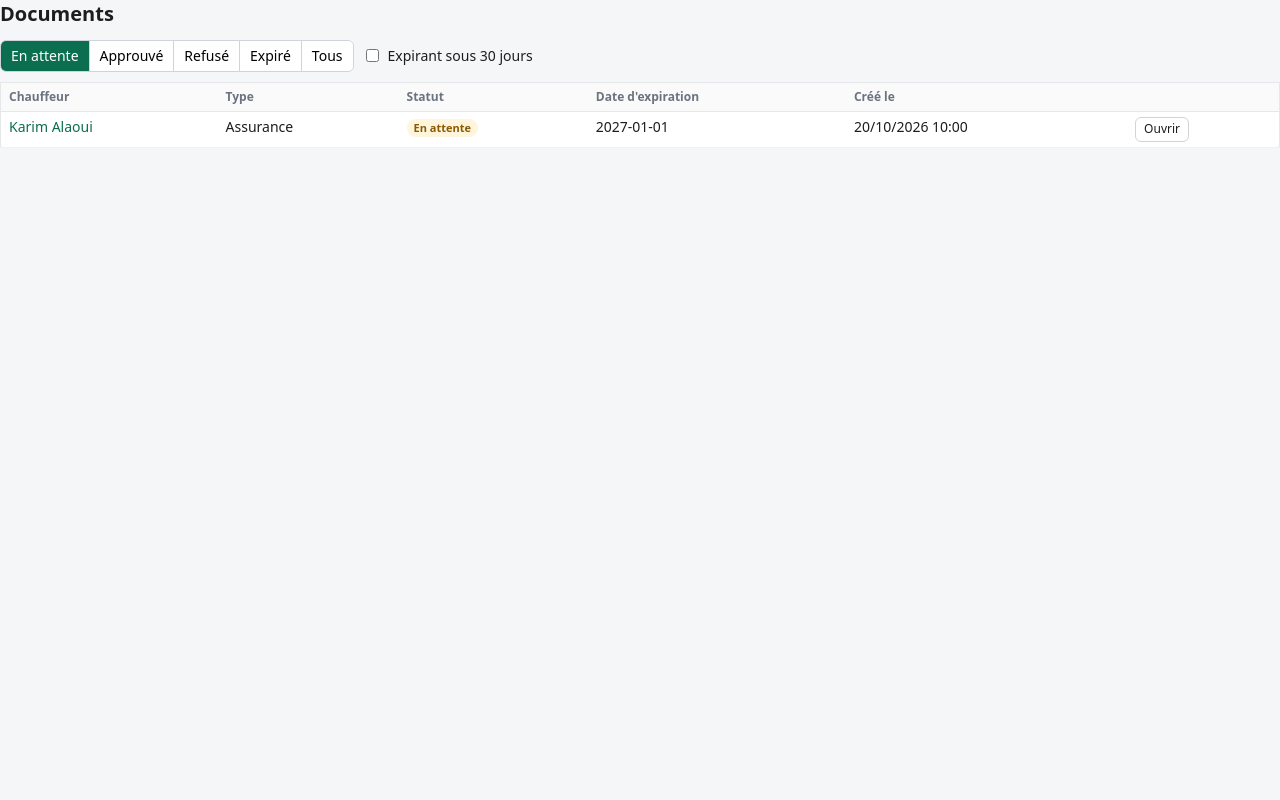
Scenario: Documents › approve with an expiry date → POST approve {expires_on}
This screenshot has width=1280, height=800.
Click the button "Ouvrir". click: (1162,130)
box: [1135, 117, 1189, 142]
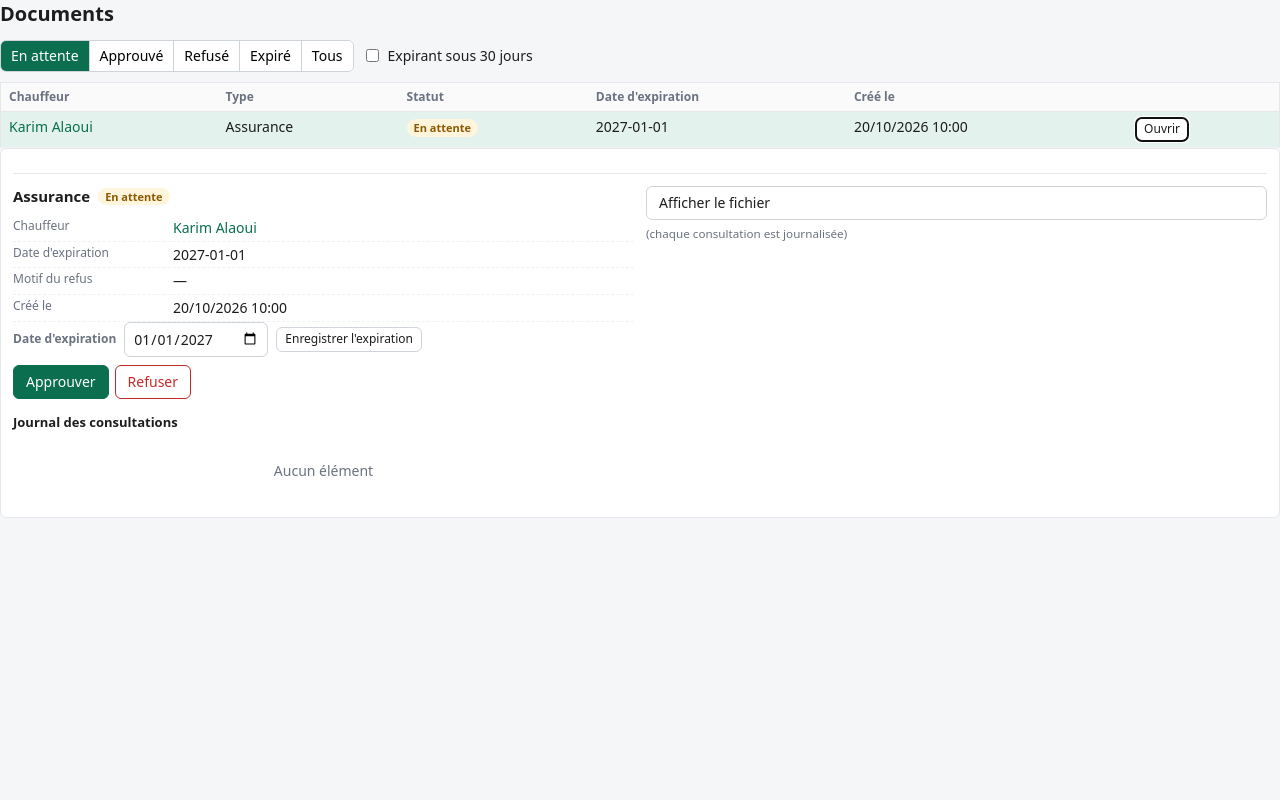
Check: the element with test id "doc-panel" is shown, box [13, 173, 1267, 504]
Type "2028-03-31" into the date field labelled "Date d'expiration". click: (196,339)
box: [124, 322, 268, 357]
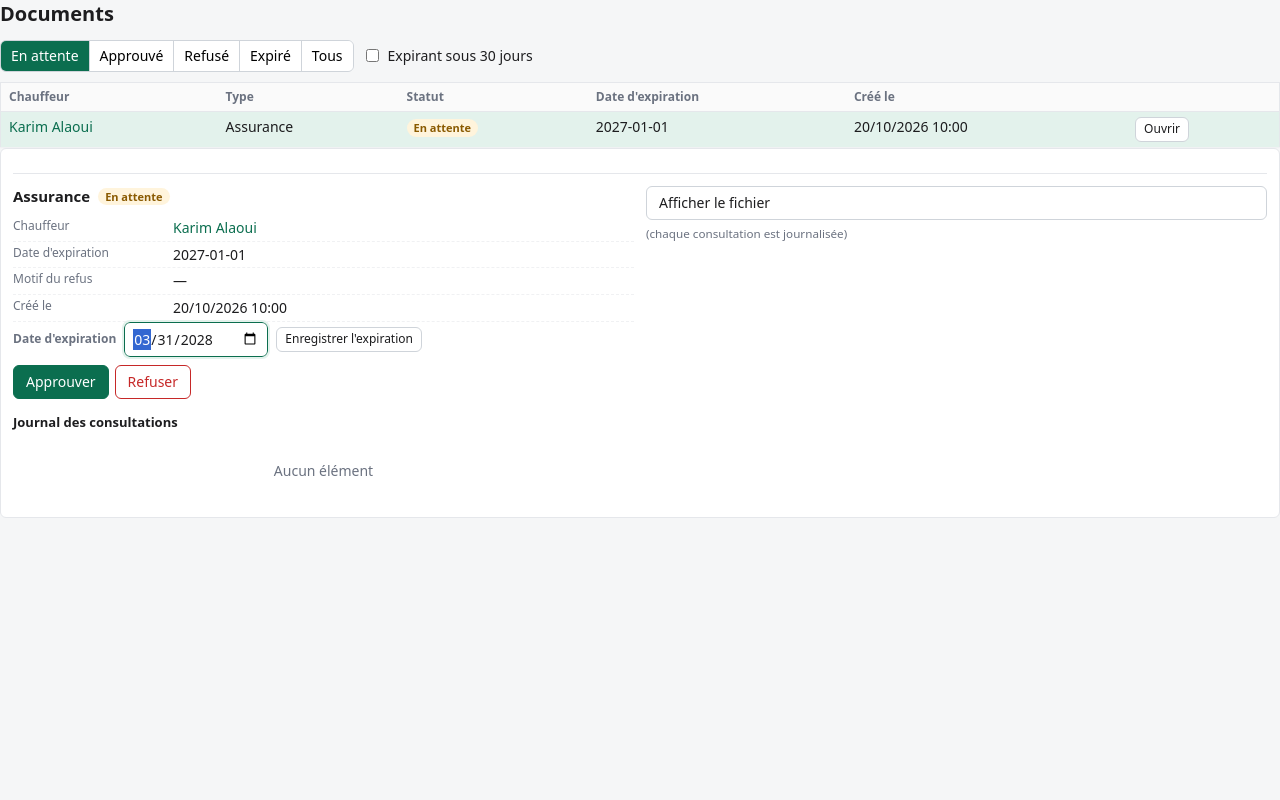
Click the button "Approuver". click: (61,382)
box: [13, 365, 109, 399]
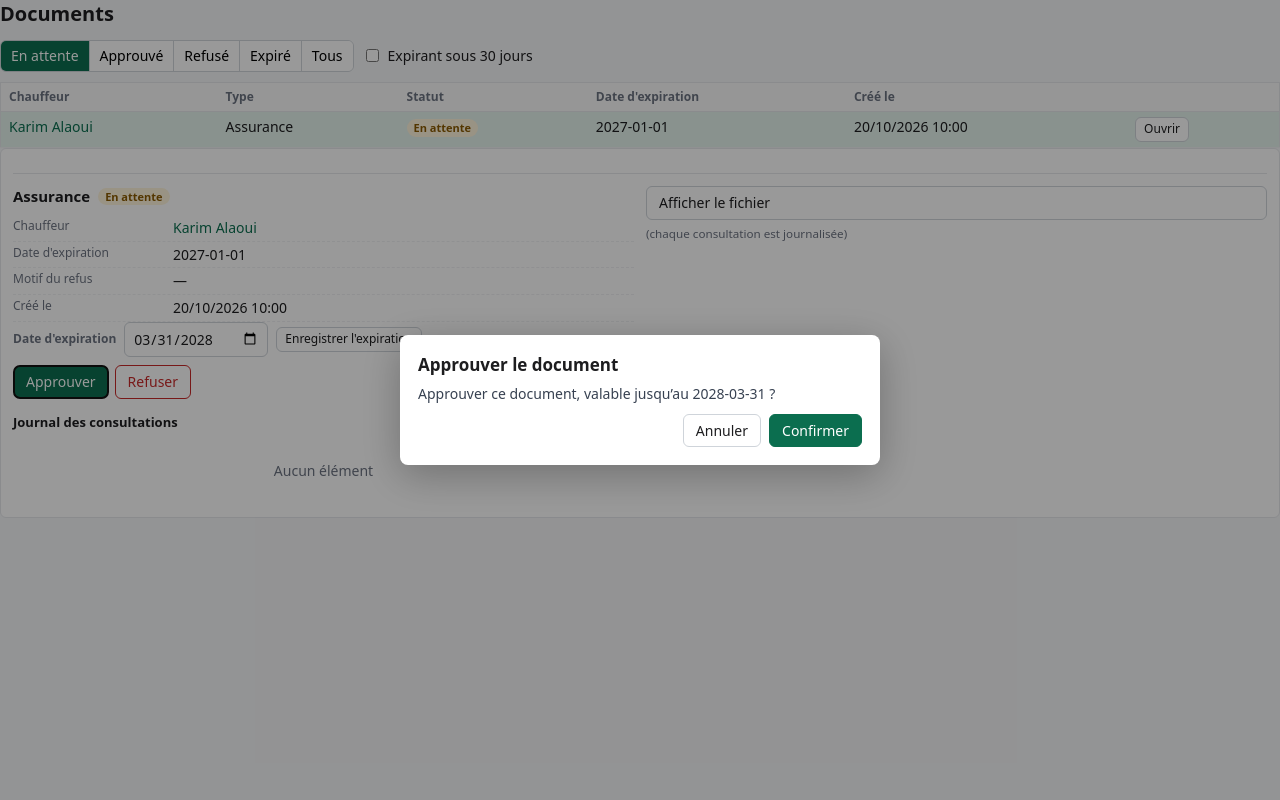
Click the button "Confirmer". click: (816,431)
box: [769, 414, 862, 448]
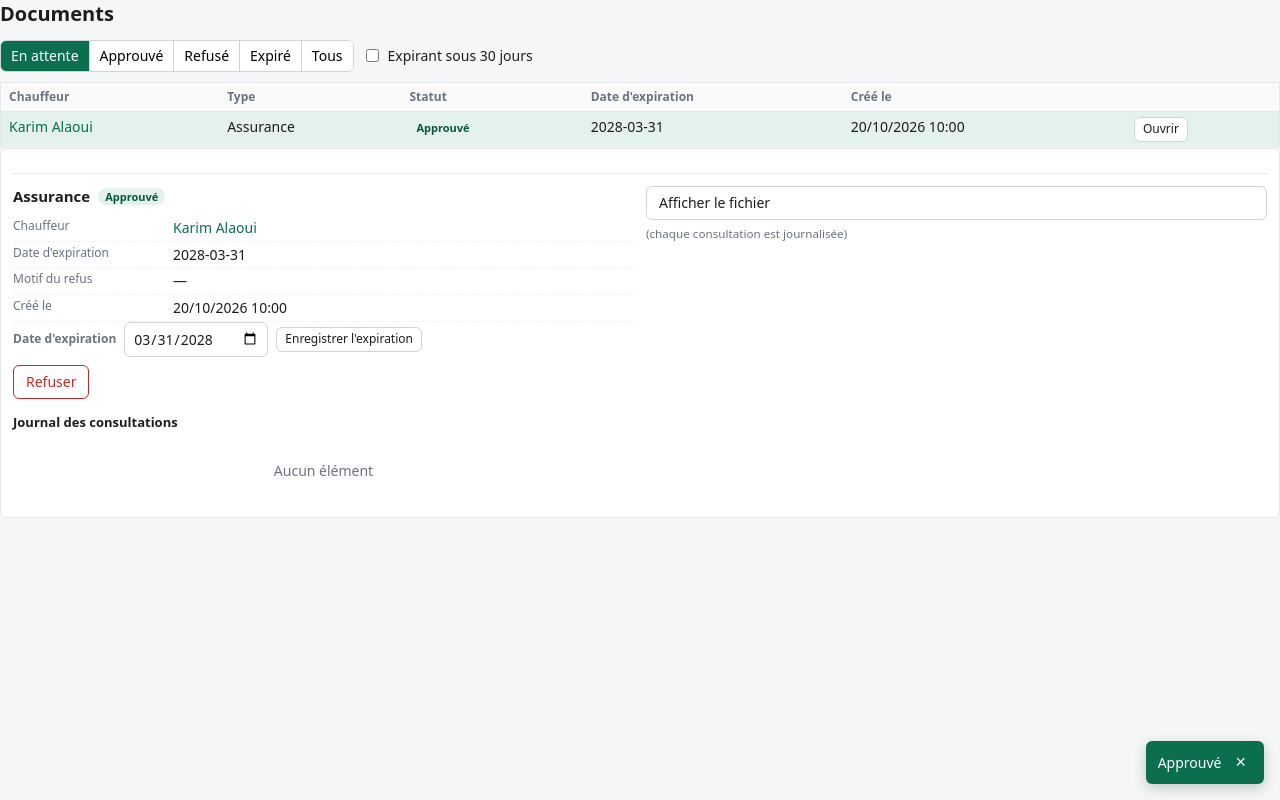
Check: the 3rd text "Approuvé" is shown, box [1158, 753, 1222, 772]
